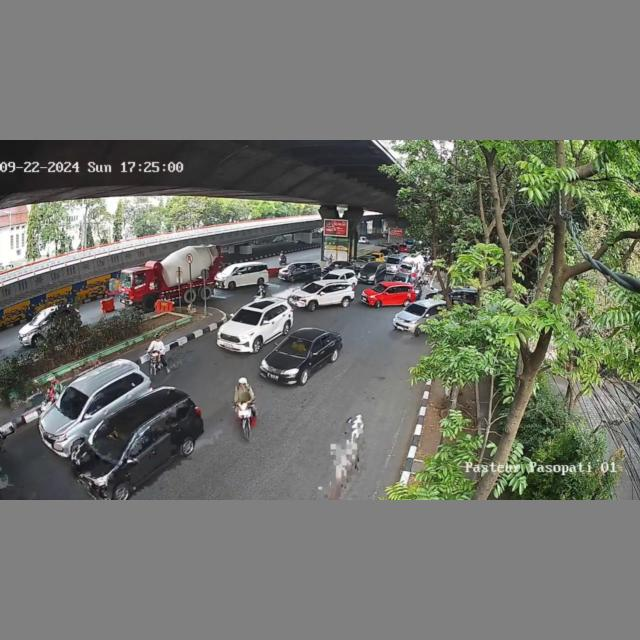windshield: (55, 387, 89, 417), (273, 336, 314, 356), (233, 310, 262, 326)
